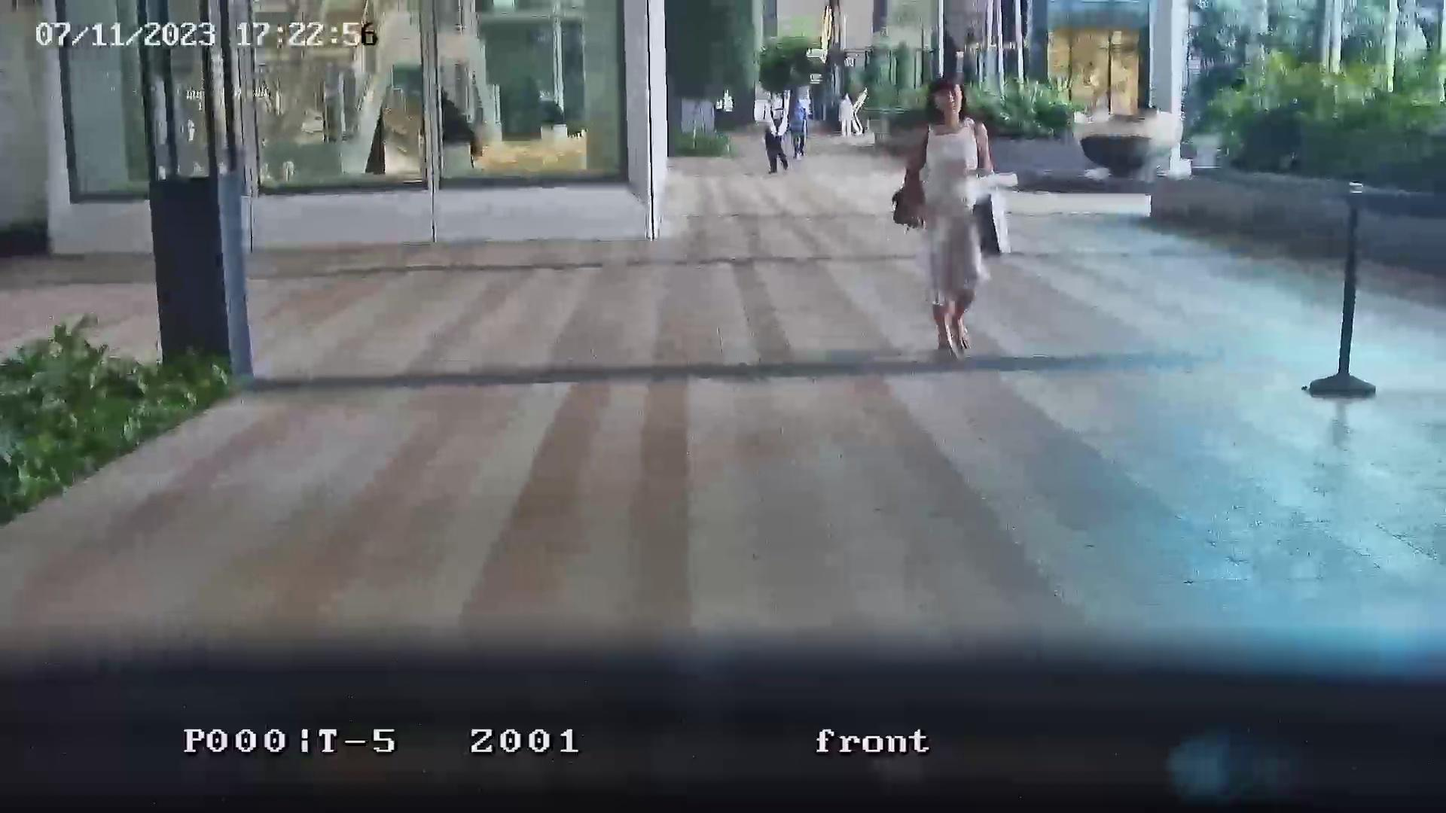person: (893, 71, 999, 348), (763, 93, 791, 175), (789, 87, 811, 158)
